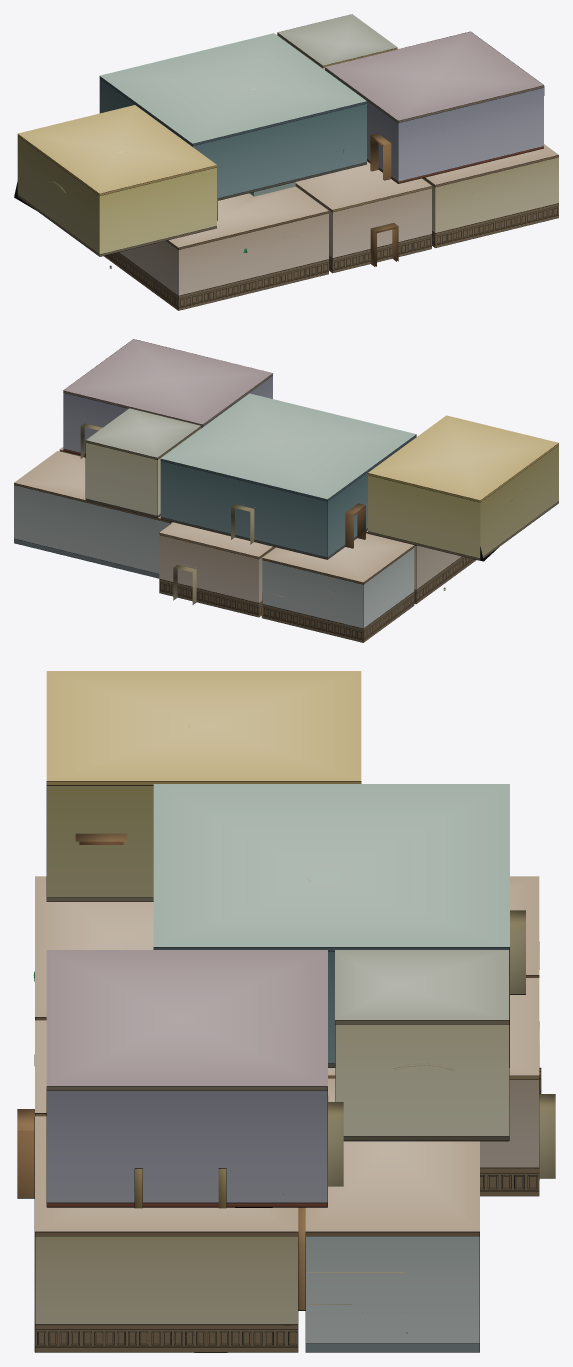
File: Hartman House.fbx
3 views of the same model, one above another, from view 1: azimuth 30°, elevation 25°; view 2: azimuth 150°, elevation 25°; view 3: azimuth 270°, elevation 25° (orthographic). The views are drawn at different scales.
Parts seen in each view (by area): view 1: Z9_walls_colourPaletteHartmansHouse_geo, Z9_colourPaletteHartmansHouse_geo, Z9_livingroom_geo, Z9_familyroom_geo; view 2: Z9_walls_colourPaletteHartmansHouse_geo, Z9_colourPaletteHartmansHouse_geo, Z9_livingroom_geo; view 3: Z9_colourPaletteHartmansHouse_geo, Z9_walls_colourPaletteHartmansHouse_geo, Z9_familyroom_geo, Z9_livingroom_geo.
Boxes of the visible parts, <box> form: Z9_walls_colourPaletteHartmansHouse_geo: <box>17,31,558,310</box>; Z9_colourPaletteHartmansHouse_geo: <box>18,14,558,268</box>; Z9_livingroom_geo: <box>104,234,431,310</box>; Z9_familyroom_geo: <box>432,203,558,247</box>; Z9_walls_colourPaletteHartmansHouse_geo: <box>14,339,558,642</box>; Z9_colourPaletteHartmansHouse_geo: <box>14,339,558,617</box>; Z9_livingroom_geo: <box>159,556,475,642</box>; Z9_colourPaletteHartmansHouse_geo: <box>17,671,555,1333</box>; Z9_walls_colourPaletteHartmansHouse_geo: <box>35,781,539,1352</box>; Z9_familyroom_geo: <box>35,1324,297,1352</box>; Z9_livingroom_geo: <box>33,971,541,1195</box>.
Size of the model in its own units: 10276 by 2853 by 5435.
Materials: 12 (12 with a texture image).
